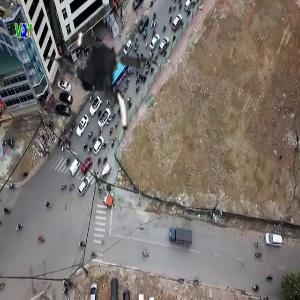drone: (34, 19, 168, 153)
